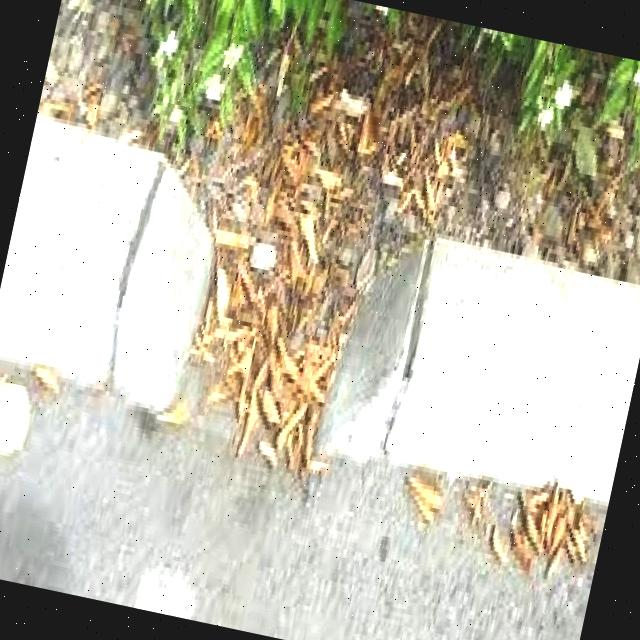curb: (1, 136, 640, 508)
